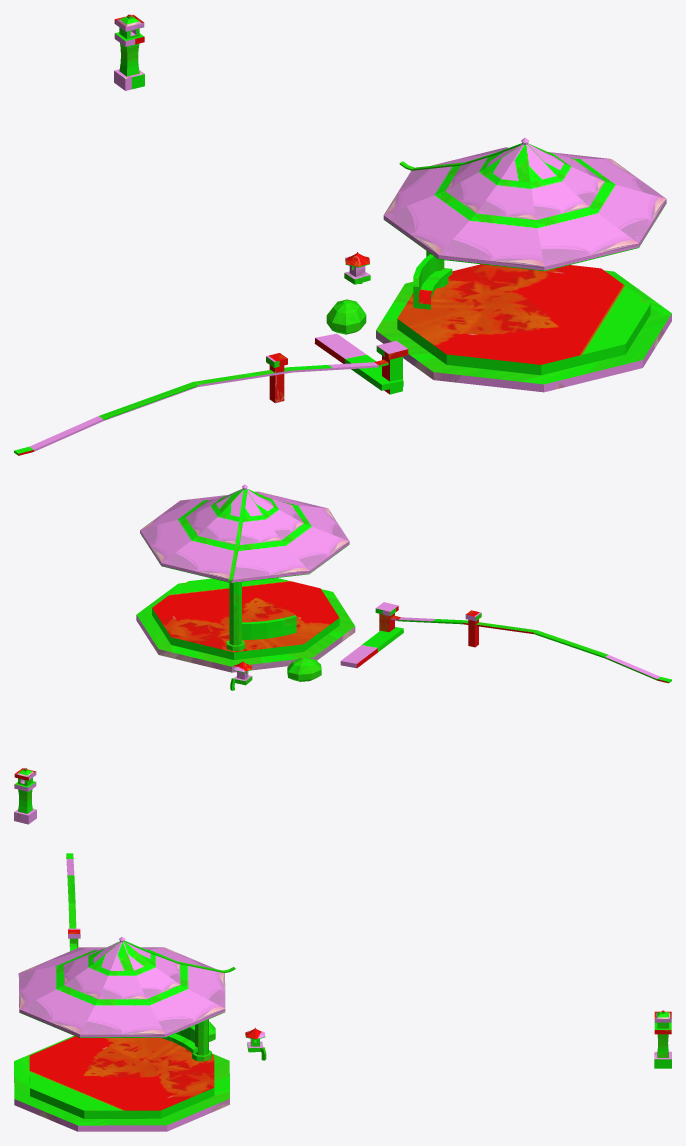
File: 7.JUNGJA.fbx
3 renders of one model, top to bottom at view 1: azimuth 30°, elevation 25°; view 2: azimuth 150°, elevation 25°; view 3: azimuth 270°, elevation 25°, orthographic. The views are drawn at different scales.
Visible parts, largest first — view 1: Cylinder.003, Cylinder.126, Cube.057, Cube.108, Cube.111, Cube.110, Cylinder.046, Cube.063, Cube.060; view 2: Cylinder.126, Cylinder.003, Cube.057, Cube.110, Cube.111, Cube.108, Cylinder.004, Cylinder.046; view 3: Cylinder.003, Cylinder.126, Cube.108, Cube.057, Cylinder.004, Cube.110.
Boxes of the visible parts, box(x1,y1,x2,y2) form: Cylinder.003: box(376, 264, 671, 392); Cylinder.126: box(383, 138, 666, 271); Cube.057: box(14, 359, 388, 455); Cube.108: box(114, 14, 144, 90); Cube.111: box(314, 333, 403, 390); Cube.110: box(413, 254, 452, 309); Cylinder.046: box(326, 299, 366, 334); Cube.063: box(376, 340, 408, 394); Cube.060: box(266, 353, 287, 403); Cylinder.126: box(140, 484, 349, 583); Cylinder.003: box(136, 578, 355, 672); Cube.057: box(390, 615, 671, 683); Cube.110: box(242, 615, 296, 639); Cube.111: box(340, 627, 403, 668); Cube.108: box(14, 767, 36, 824); Cylinder.004: box(226, 582, 244, 650); Cylinder.046: box(287, 657, 321, 681); Cylinder.003: box(14, 1035, 229, 1131); Cylinder.126: box(18, 937, 225, 1037); Cube.108: box(654, 1010, 671, 1068); Cube.057: box(66, 853, 76, 950); Cylinder.004: box(192, 1019, 211, 1061); Cube.110: box(162, 1026, 197, 1053).
Bounding box in the file's own units: 1484 × 416 × 1638.
